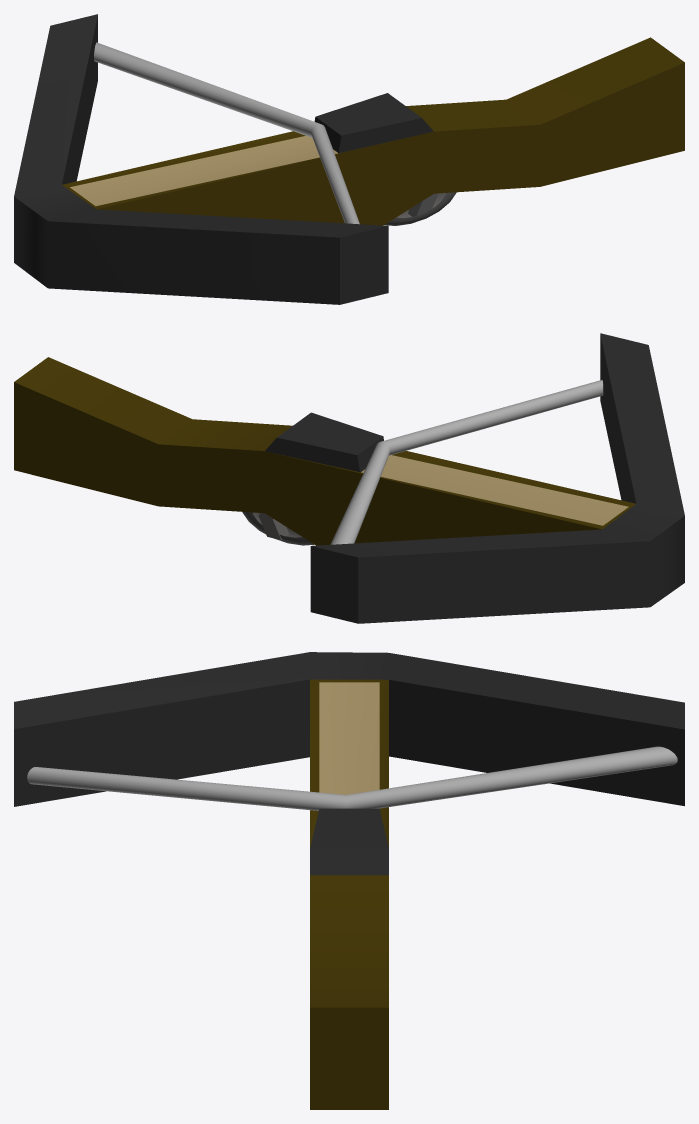
The model's file is Crossbow.fbx.
The picture shows the model from 3 angles, top to bottom: view 1: azimuth 30°, elevation 25°; view 2: azimuth 150°, elevation 25°; view 3: azimuth 270°, elevation 25°; orthographic projection. The views are drawn at different scales.
Visible parts, largest first — view 1: Crossbow, String, Trigger_protector; view 2: Crossbow, String, Trigger_protector, Trigger; view 3: Crossbow, String.
Part boxes in pixels (x1=…): Crossbow: x1=14, y1=14, x2=684, y2=304; String: x1=94, y1=42, x2=359, y2=224; Trigger_protector: x1=384, y1=192, x2=456, y2=225; Crossbow: x1=14, y1=333, x2=684, y2=623; String: x1=330, y1=380, x2=603, y2=544; Trigger_protector: x1=242, y1=512, x2=314, y2=545; Trigger: x1=258, y1=513, x2=288, y2=539; Crossbow: x1=14, y1=652, x2=684, y2=1109; String: x1=27, y1=746, x2=677, y2=810.
Bounding box in the file's own units: 37.86 × 8.18 × 29.86.
